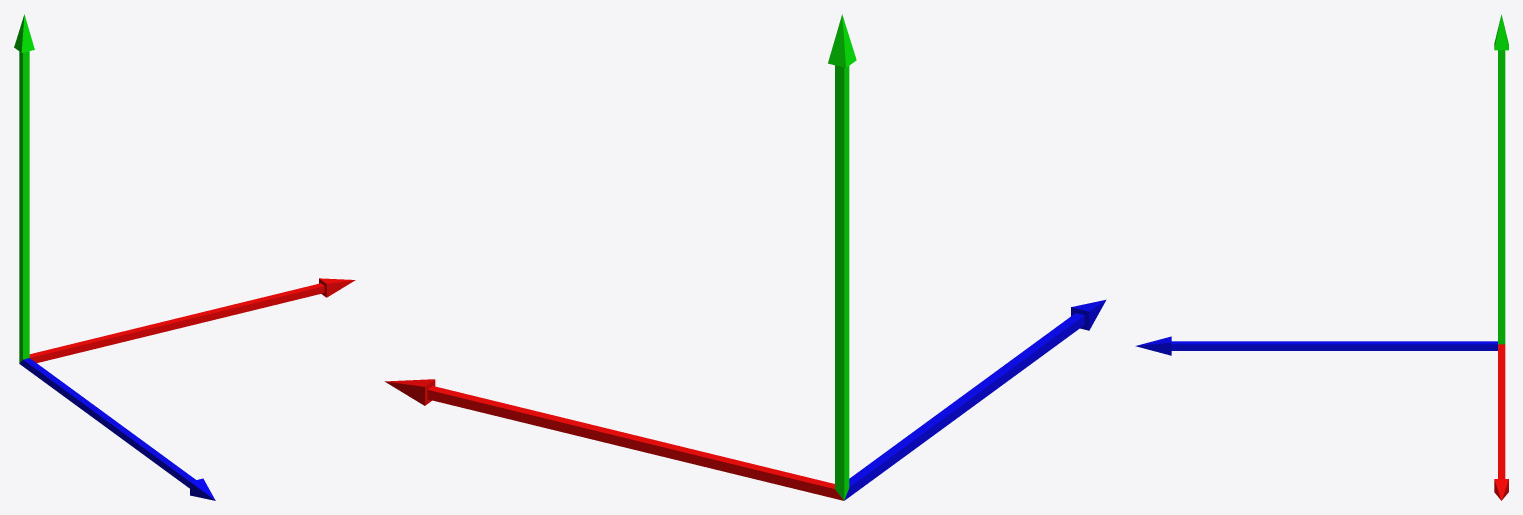
Rendered from CoordinateSystemRH.fbx.
3 renders of one model, left to right at view 1: azimuth 30°, elevation 25°; view 2: azimuth 150°, elevation 25°; view 3: azimuth 270°, elevation 25°, orthographic. The views are drawn at different scales.
Visible parts, largest first — view 1: CoordinateSystemRH; view 2: CoordinateSystemRH; view 3: CoordinateSystemRH.
Boxes of the visible parts, x1,y1,x2,y2 form: CoordinateSystemRH: [14, 14, 355, 500]; CoordinateSystemRH: [384, 14, 1106, 500]; CoordinateSystemRH: [1135, 14, 1508, 500].
Bounding box in the file's own units: 102 × 102 × 102.
